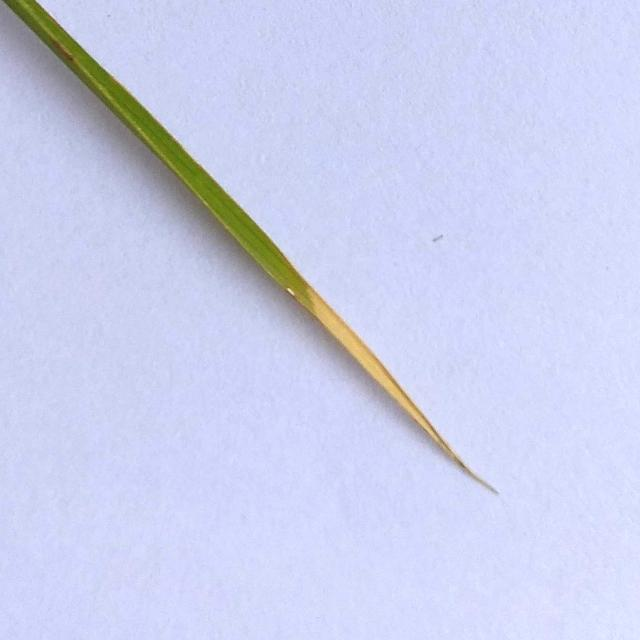Blast: (284, 284, 304, 300)
